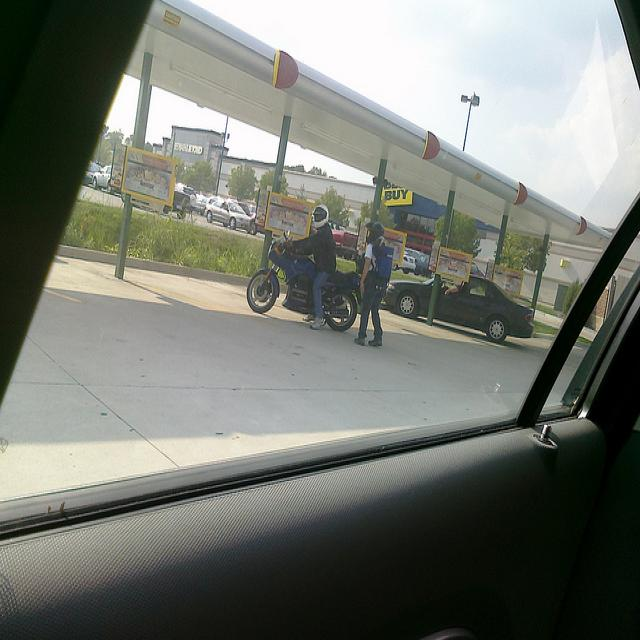motor: (243, 223, 363, 333)
